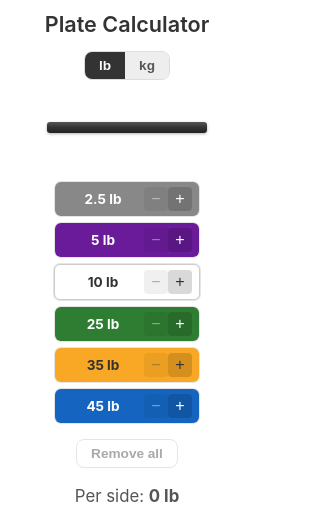
TC-06: adding a 45 lb plate updates per-side and total weight correctly
Click the button named "Add 45 lb" at (180, 406), box top-left (168, 394), bottom-right (192, 418)
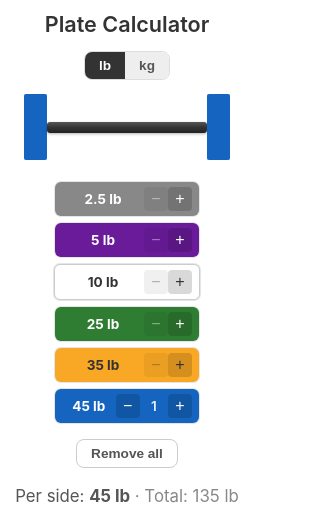
Now the text "45 lb" next to "Per side:" is shown, box top-left (89, 486), bottom-right (130, 506)
Now the text "· Total: 135 lb" is shown, box top-left (130, 486), bottom-right (239, 506)
